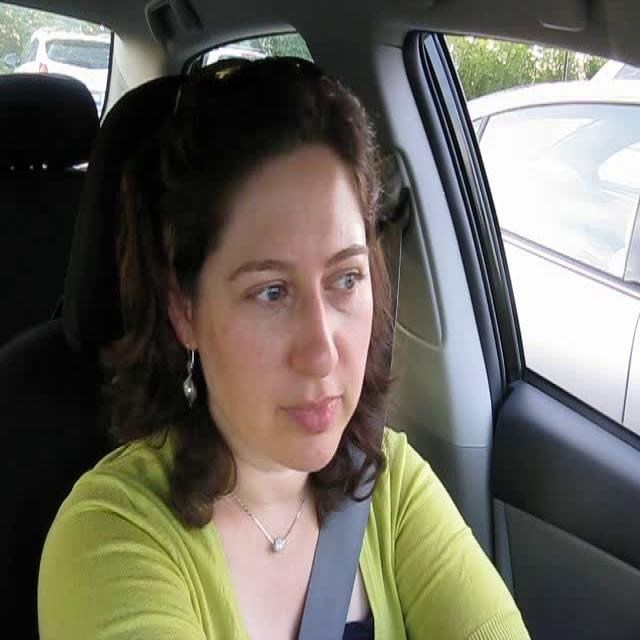close: (274, 392, 343, 434)
